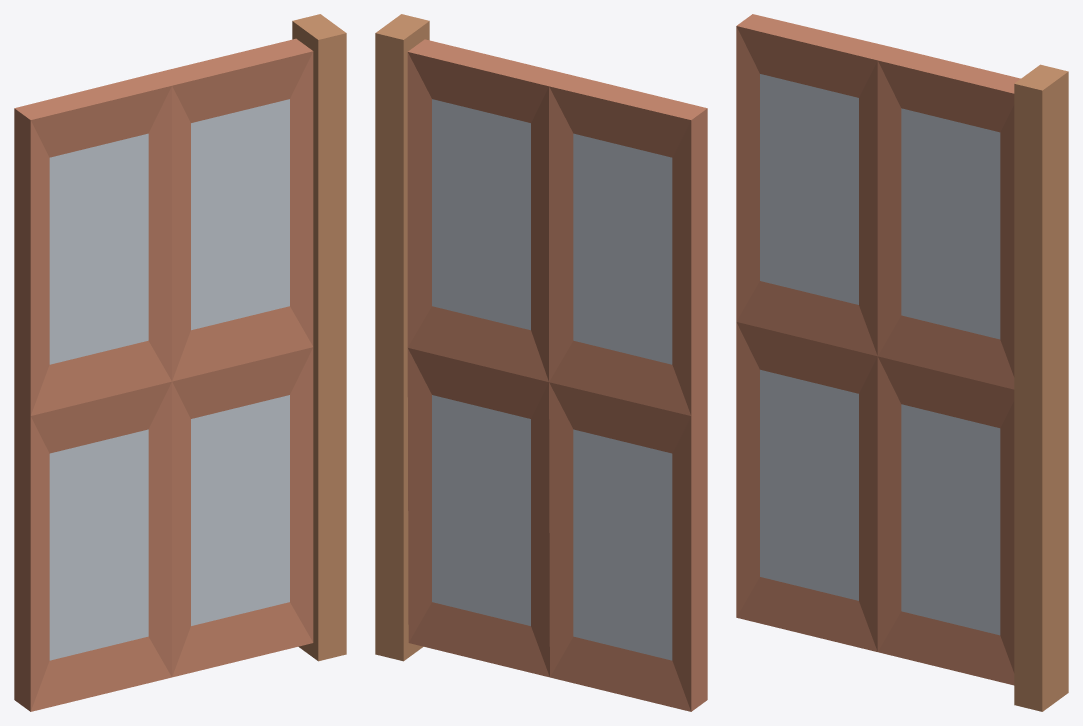
The model's file is SlidingDoor.fbx.
3 views of the same model, side by side, from view 1: azimuth 30°, elevation 25°; view 2: azimuth 150°, elevation 25°; view 3: azimuth 330°, elevation 25° (orthographic).
Parts seen in each view (by area): view 1: door, door reciever; view 2: door, door reciever; view 3: door, door reciever.
Part boxes in pixels (x1,y1,x2,y2): door: [14, 38, 313, 711]; door reciever: [292, 14, 346, 661]; door: [407, 39, 707, 711]; door reciever: [375, 14, 429, 661]; door: [736, 14, 1020, 685]; door reciever: [1014, 64, 1068, 711].
Size of the model in its own units: 220 by 420 by 32.
